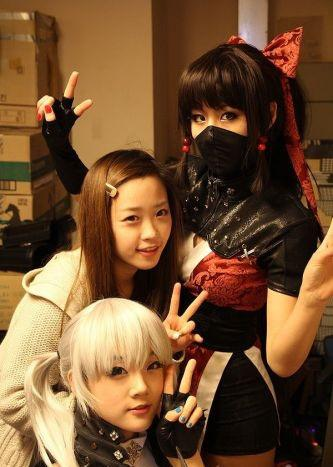NONE: (93, 349, 168, 432), (117, 203, 179, 269)
OK: (189, 94, 258, 170)
